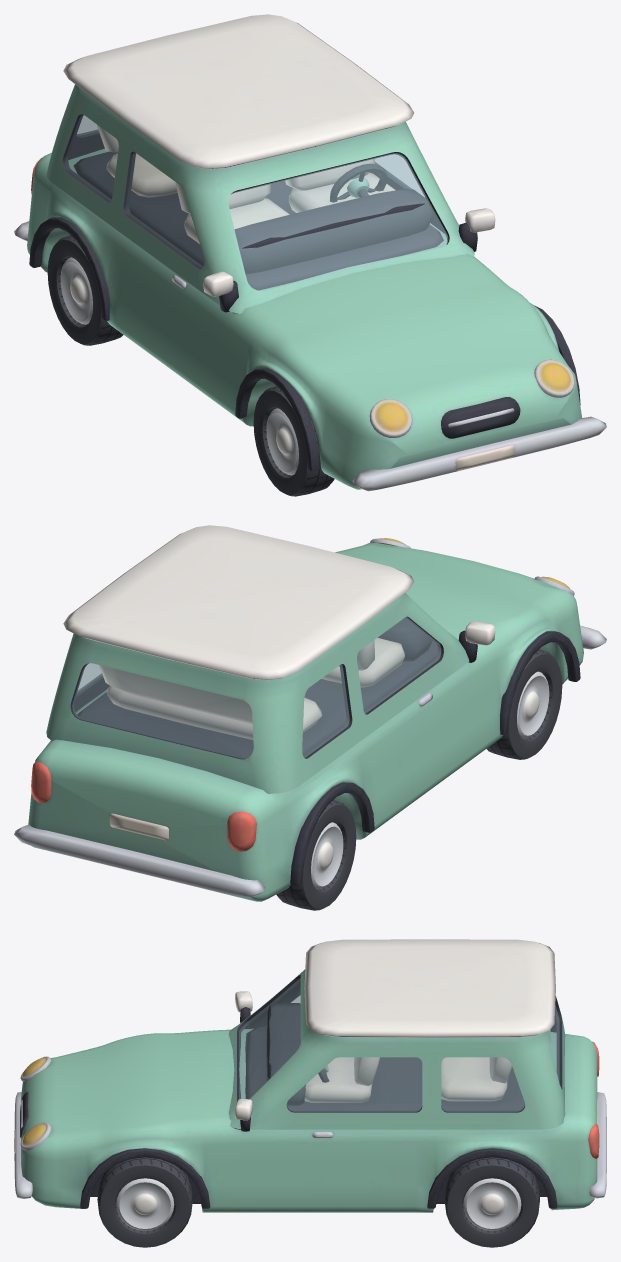
File: compact-car.glb
3 renders of one model, top to bottom at view 1: azimuth 30°, elevation 25°; view 2: azimuth 150°, elevation 25°; view 3: azimuth 270°, elevation 25°, orthographic. The views are drawn at different scales.
Parts seen in each view (by area): view 1: compact-car_body, compact-car_windows, compact-car_wheel_fr, compact-car_wheel_rr; view 2: compact-car_body, compact-car_windows, compact-car_wheel_rr, compact-car_wheel_fr; view 3: compact-car_body, compact-car_windows, compact-car_wheel_rl, compact-car_wheel_fl.
Boxes of the visible parts, bbox=[...] form: compact-car_body: bbox=[14, 14, 606, 491]; compact-car_windows: bbox=[65, 114, 447, 290]; compact-car_wheel_fr: bbox=[253, 386, 334, 496]; compact-car_wheel_rr: bbox=[47, 235, 123, 345]; compact-car_body: bbox=[14, 525, 606, 901]; compact-car_windows: bbox=[72, 617, 440, 758]; compact-car_wheel_rr: bbox=[276, 800, 356, 910]; compact-car_wheel_fr: bbox=[486, 649, 562, 759]; compact-car_body: bbox=[14, 939, 606, 1212]; compact-car_windows: bbox=[239, 978, 559, 1111]; compact-car_wheel_rl: bbox=[444, 1157, 539, 1247]; compact-car_wheel_fl: bbox=[97, 1157, 192, 1247].
Bounding box in the file's own units: 1.76 × 1.48 × 3.72.
18 materials, 5 textured.
